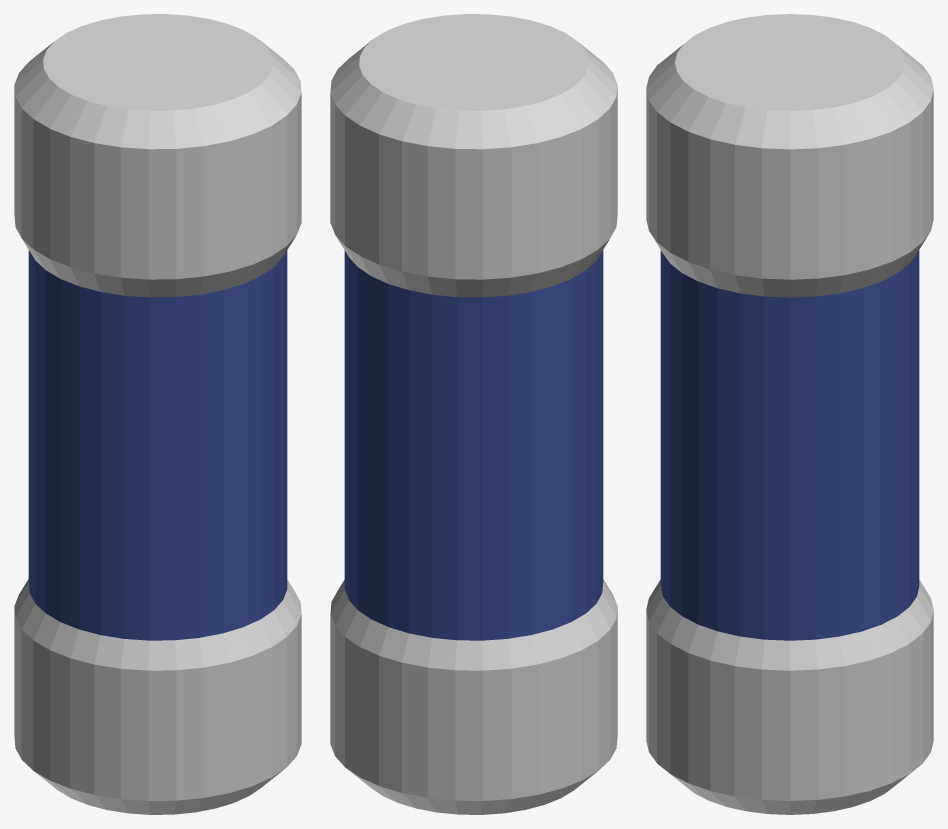
The model's file is mini health.fbx.
3 renders of one model, left to right at view 1: azimuth 30°, elevation 25°; view 2: azimuth 150°, elevation 25°; view 3: azimuth 270°, elevation 25°, orthographic.
Parts seen in each view (by area): view 1: Cylinder; view 2: Cylinder; view 3: Cylinder.
Part boxes in pixels (bbox=[...]): Cylinder: bbox=[14, 14, 301, 814]; Cylinder: bbox=[330, 14, 617, 814]; Cylinder: bbox=[646, 14, 933, 814].
Bounding box in the file's own units: 200 × 540 × 200.
